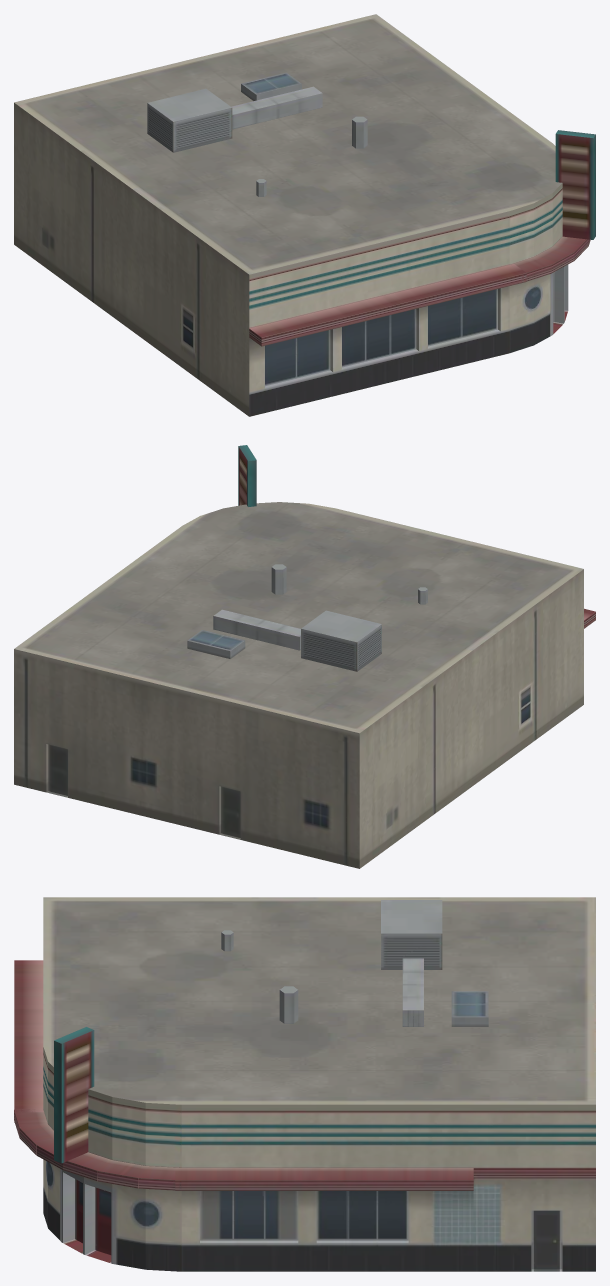
Rendered from sf_lowrise_c.glb.
3 renders of one model, top to bottom at view 1: azimuth 30°, elevation 25°; view 2: azimuth 150°, elevation 25°; view 3: azimuth 270°, elevation 25°, orthographic. The views are drawn at different scales.
Visible parts, largest first — view 1: sf_lowrise_c; view 2: sf_lowrise_c; view 3: sf_lowrise_c.
Part boxes in pixels (x1,y1,x2,y2): sf_lowrise_c: (14,14,595,416); sf_lowrise_c: (14,445,595,868); sf_lowrise_c: (14,897,595,1271).
Size of the model in its own units: 16.96 by 8.03 by 18.96.
1 material, 1 textured.
